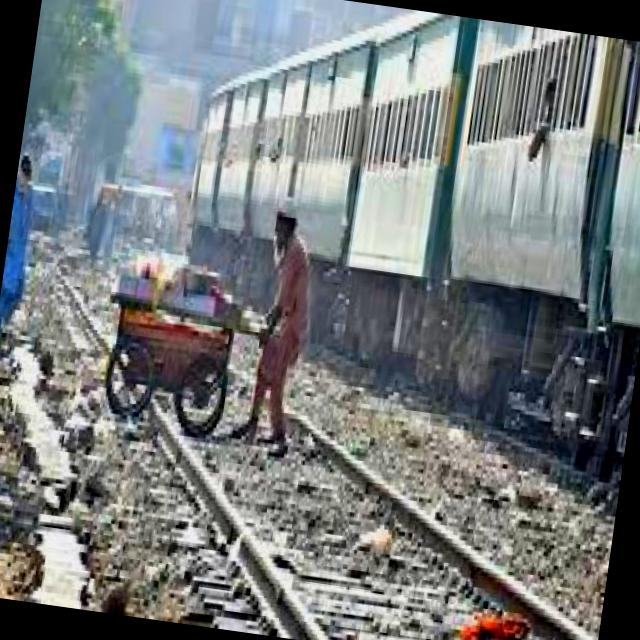Person: (238, 199, 324, 455)
